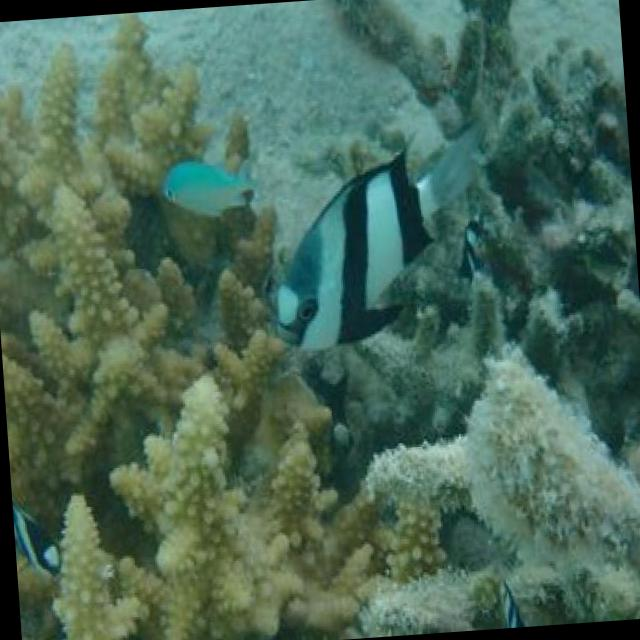Three_striped DasmselFish: (260, 125, 510, 362)
